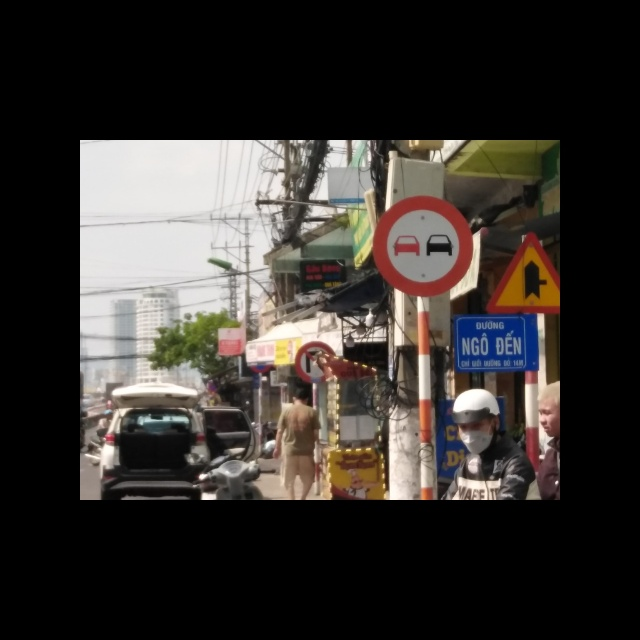Cấm vượt: (367, 195, 470, 296)
Giao nhau với đường không ưu tiên: (485, 230, 561, 315)
